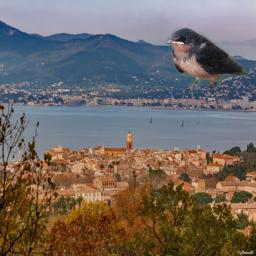Swallow: (165, 27, 248, 91)
